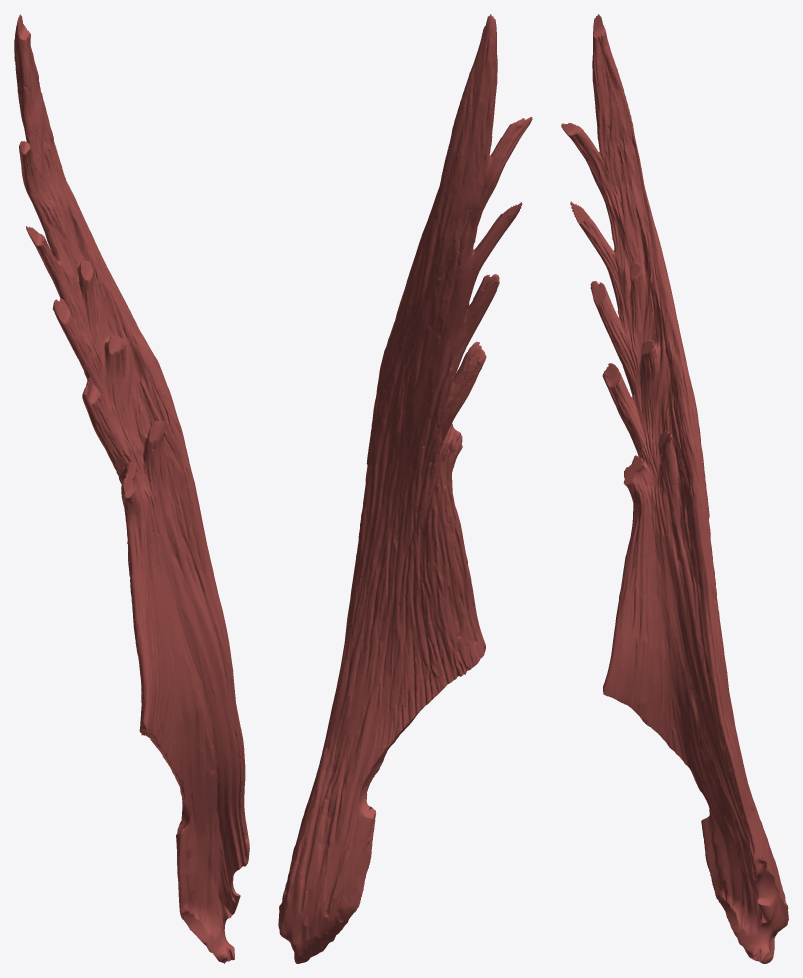
Rendered from FMA22740.glb.
3 renders of one model, left to right at view 1: azimuth 30°, elevation 25°; view 2: azimuth 150°, elevation 25°; view 3: azimuth 330°, elevation 25°, orthographic. The views are drawn at different scales.
Parts seen in each view (by area): view 1: FMA22740; view 2: FMA22740; view 3: FMA22740.
Boxes of the visible parts, <box> form: FMA22740: <box>14,14,249,963</box>; FMA22740: <box>278,14,532,963</box>; FMA22740: <box>561,14,788,963</box>.
Bounding box in the file's own units: 0.0918 × 0.3779 × 0.046.
